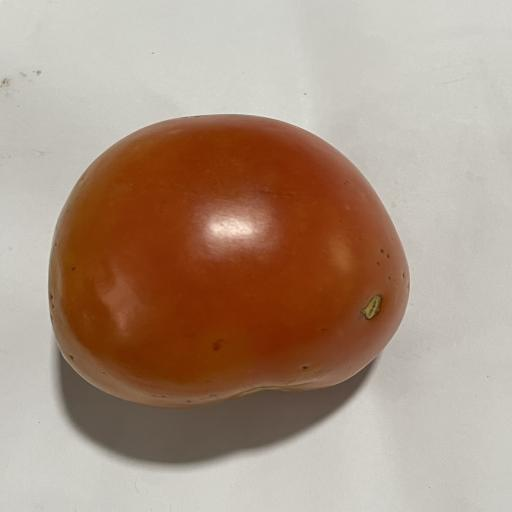ripe: (49, 115, 409, 407)
